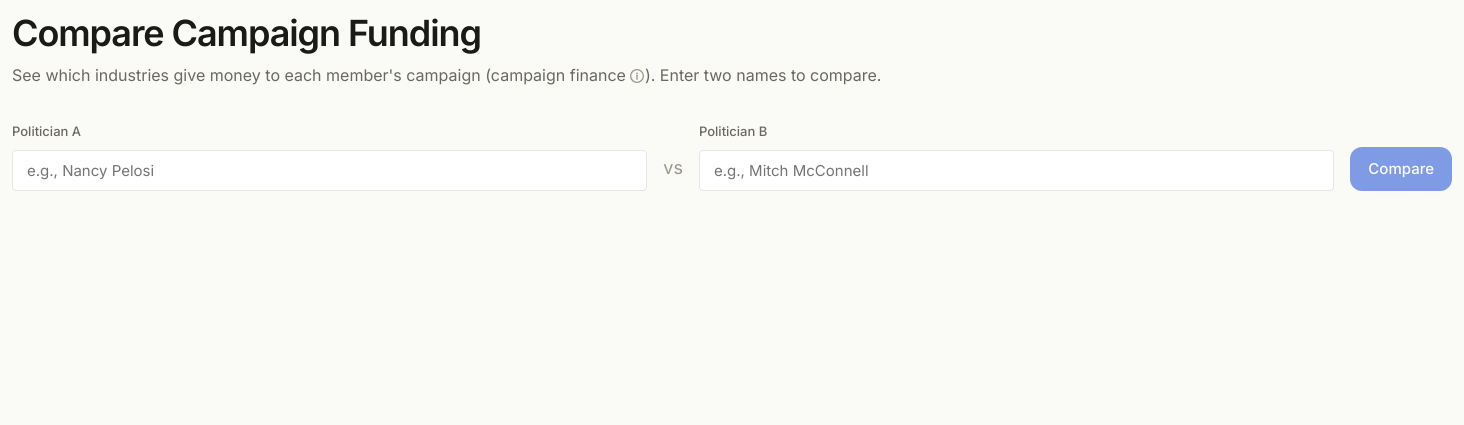
Scenario: DonationComparison › shows results after comparison
Type "Nancy Pelosi" into the field with placeholder "e.g., Nancy Pelosi".
click(330, 170); type("Nancy Pelosi")  # box x1=12 y1=150 x2=647 y2=191
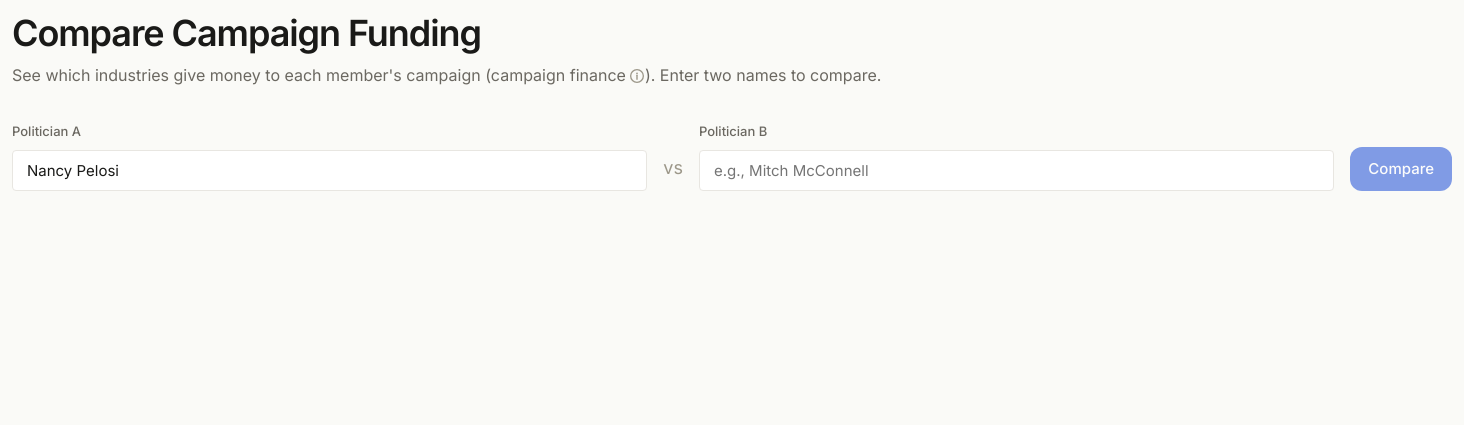
Type "Mitch McConnell" into the field with placeholder "e.g., Mitch McConnell".
click(1017, 170); type("Mitch McConnell")  # box x1=699 y1=150 x2=1334 y2=191
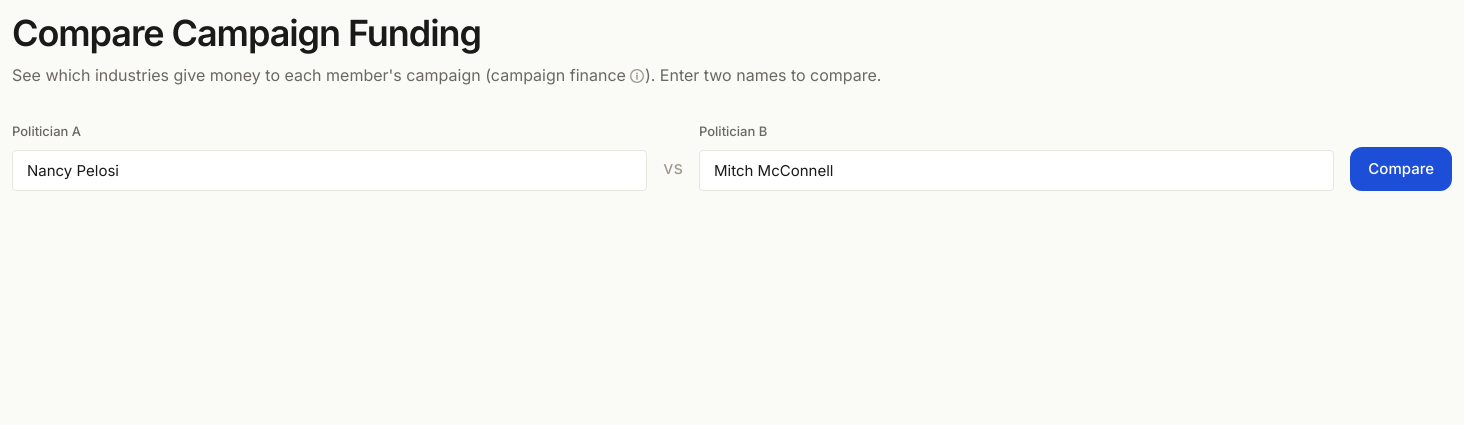
Click the button "Compare".
click(1401, 169)  # box x1=1350 y1=147 x2=1452 y2=191
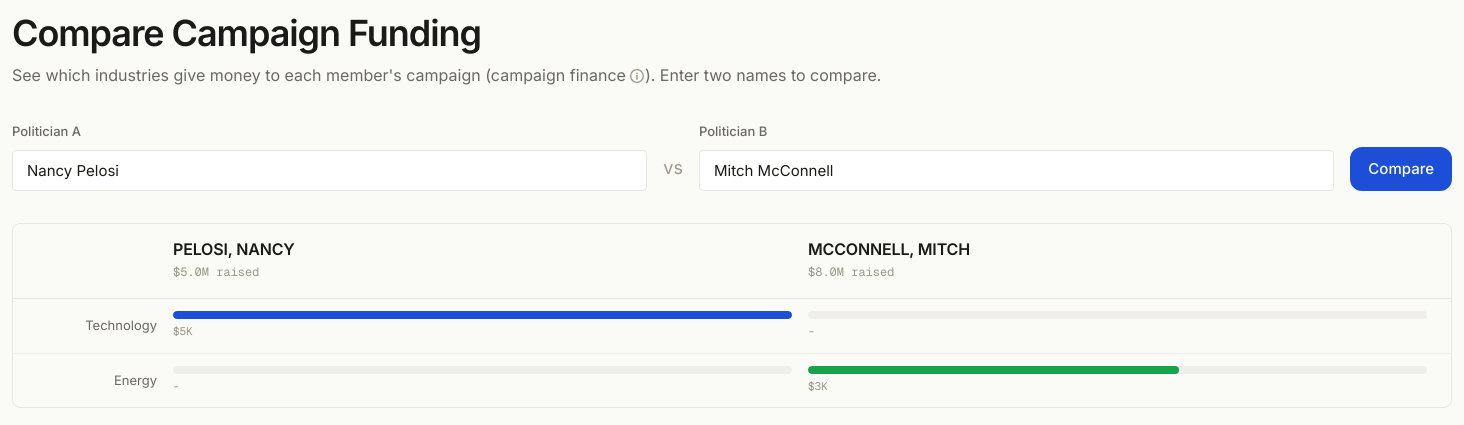
Check: the heading "PELOSI, NANCY" is shown, box x1=173 y1=239 x2=295 y2=259
Check: the heading "MCCONNELL, MITCH" is shown, box x1=808 y1=239 x2=970 y2=259
